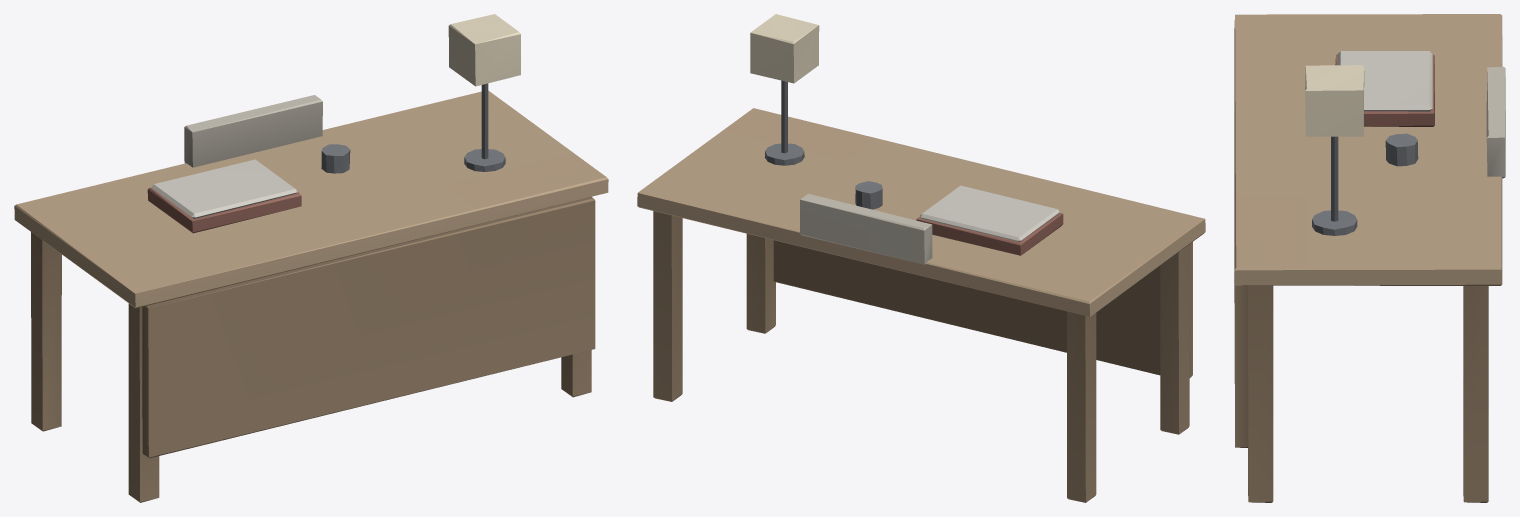
Rendered from jail_desk_low.glb.
3 renders of one model, left to right at view 1: azimuth 30°, elevation 25°; view 2: azimuth 150°, elevation 25°; view 3: azimuth 270°, elevation 25°, orthographic. The views are drawn at different scales.
Size of the model in its own units: 1.79 by 1.28 by 0.806.
